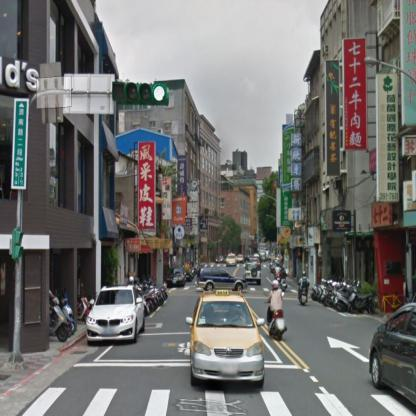Green Light: (113, 82, 168, 106)
